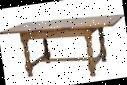Mesa: (0, 9, 126, 84)
